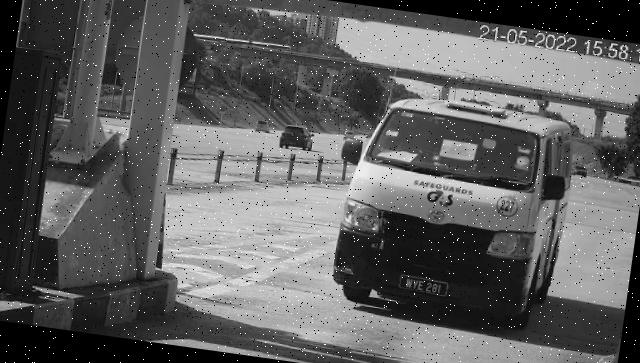License_Plate: (397, 274, 453, 301)
van: (332, 87, 582, 335)
